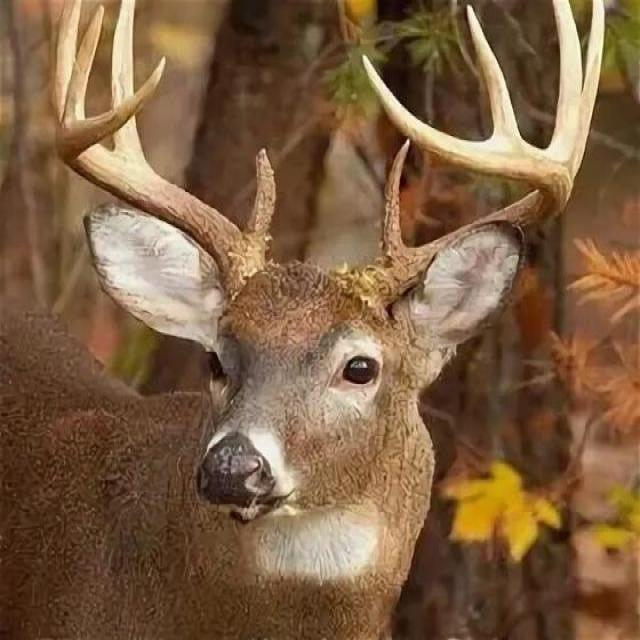deer: (71, 78, 618, 626)
